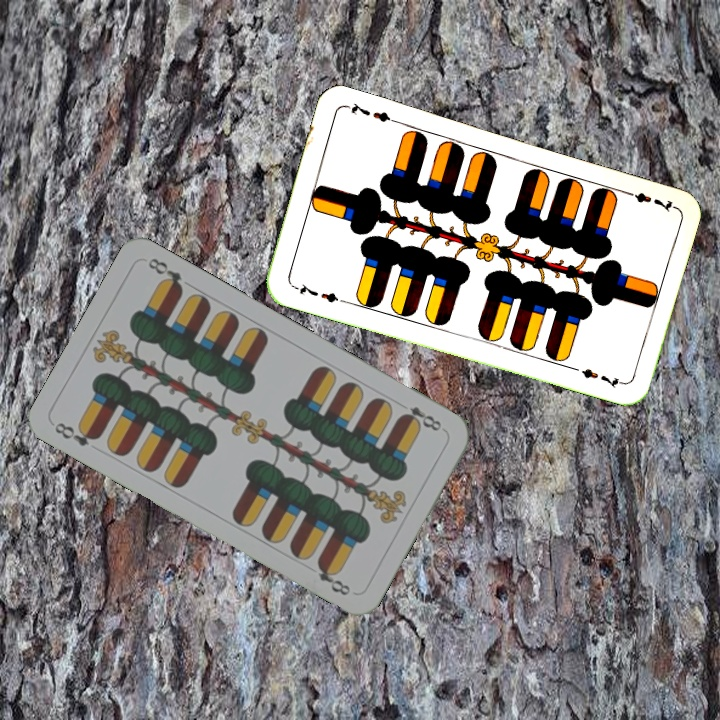E7: (619, 186, 677, 214), (289, 279, 347, 306)
E8: (50, 418, 102, 449), (396, 402, 444, 434)
